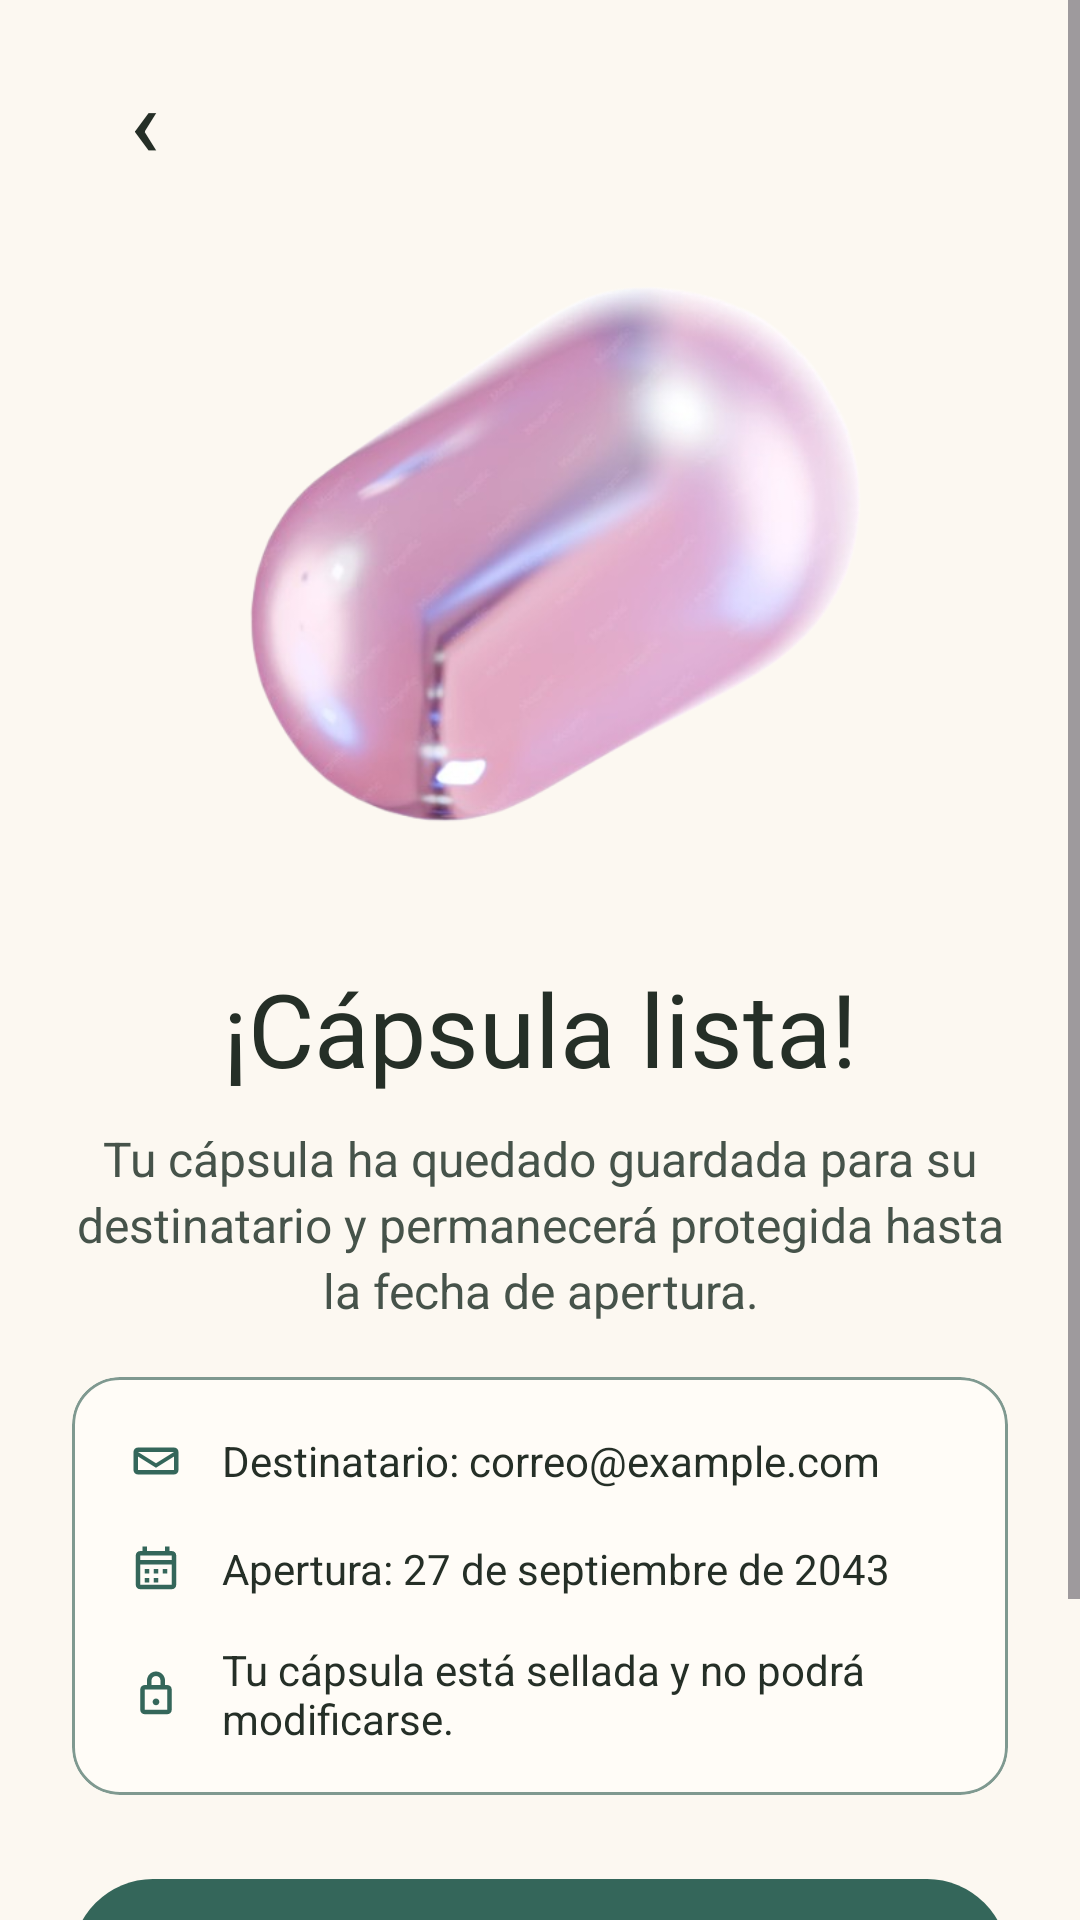

Icon bounding boxes for this 1080 × 1920 phone screenshot, format [x1=x1, y1=y1, x2=x2, y2=y2]:
capsule calendar: [x1=135, y1=1546, x2=177, y2=1590]
capsule lock: [x1=140, y1=1671, x2=172, y2=1715]
capsule mail: [x1=133, y1=1447, x2=179, y2=1475]
